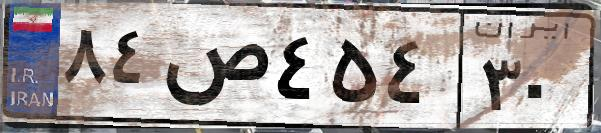0: (525, 38, 570, 115)
3: (475, 38, 525, 113)
4: (270, 28, 330, 110), (385, 28, 445, 110), (110, 28, 158, 98)
5: (330, 28, 385, 110)
8: (57, 26, 110, 100)
ص: (158, 20, 270, 120)
